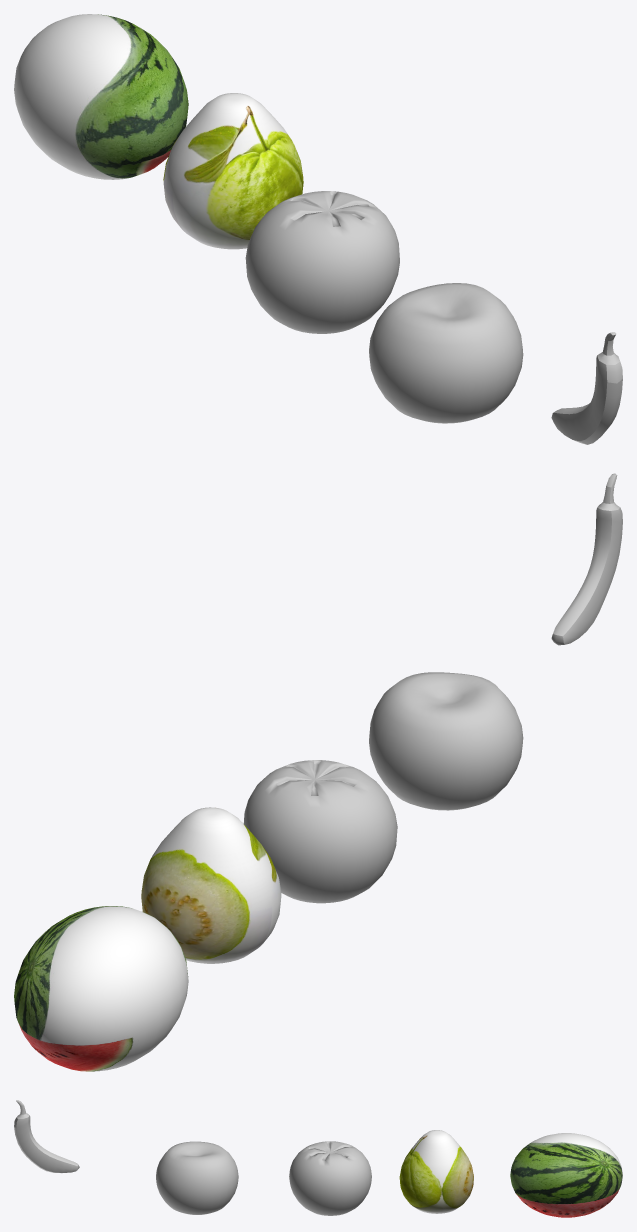
Rendered from fruits.fbx.
3 views of the same model, one above another, from view 1: azimuth 30°, elevation 25°; view 2: azimuth 150°, elevation 25°; view 3: azimuth 270°, elevation 25° (orthographic). The views are drawn at different scales.
Visible parts, largest first — view 1: melon, orange, apple, guava, bannana; view 2: melon, apple, orange, guava, bannana; view 3: melon, orange, apple, guava, bannana.
Part boxes in pixels (x1,y1,x2,y2): melon: (14,14,188,179); orange: (245,191,399,333); apple: (369,283,523,423); guava: (163,93,303,249); bannana: (551,332,622,444); melon: (14,906,188,1071); apple: (369,672,523,810); orange: (243,760,397,903); guava: (141,807,281,963); bannana: (551,473,622,645); melon: (510,1133,622,1217); orange: (289,1141,371,1215); apple: (156,1141,238,1214); guava: (399,1130,473,1213); bannana: (14,1100,79,1173).
Bounding box in the file's own units: 212 × 301 × 1470.
